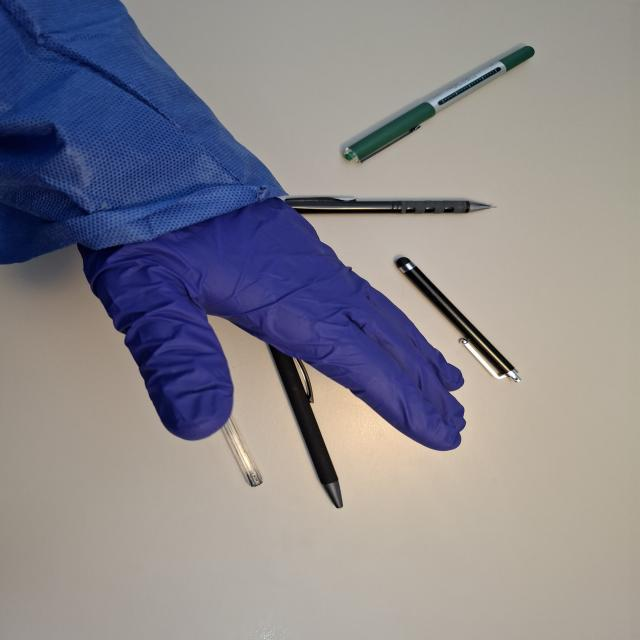glove_on: (70, 183, 470, 454)
